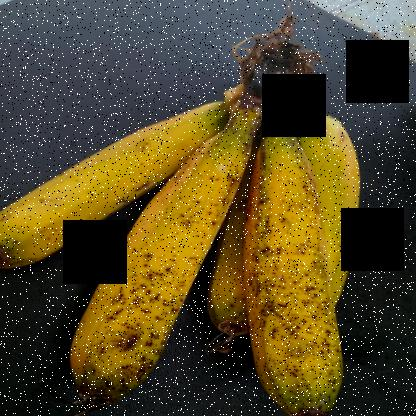ripe: (27, 140, 235, 411), (0, 99, 204, 277), (235, 138, 364, 416)
